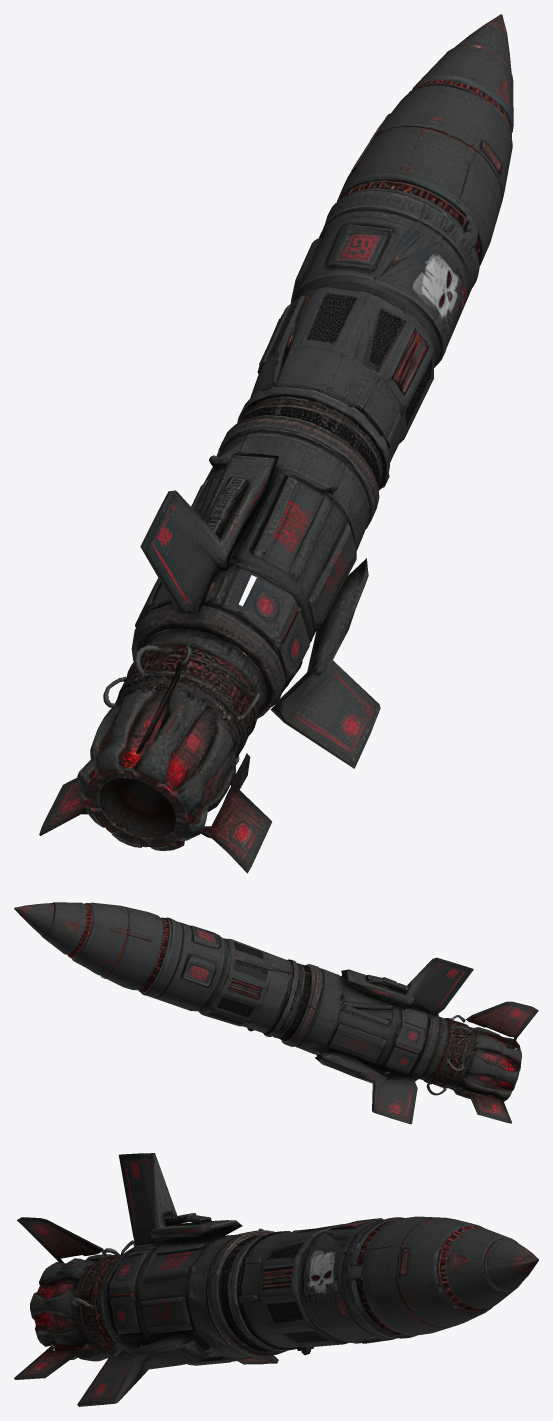
File: death_star.glb
3 renders of one model, top to bottom at view 1: azimuth 30°, elevation 25°; view 2: azimuth 150°, elevation 25°; view 3: azimuth 270°, elevation 25°, orthographic. The views are drawn at different scales.
Parts seen in each view (by area): view 1: a67091af-92d4-4ce9-b840-c3ded6db0d18; view 2: a67091af-92d4-4ce9-b840-c3ded6db0d18; view 3: a67091af-92d4-4ce9-b840-c3ded6db0d18.
Part boxes in pixels (left/top/right/bottom): a67091af-92d4-4ce9-b840-c3ded6db0d18: left=39, top=14, right=513, bottom=873; a67091af-92d4-4ce9-b840-c3ded6db0d18: left=14, top=902, right=538, bottom=1124; a67091af-92d4-4ce9-b840-c3ded6db0d18: left=14, top=1153, right=538, bottom=1406.
Size of the model in its own units: 0.9995 by 0.5991 by 0.8325.
Materials: 1 (1 with a texture image).
